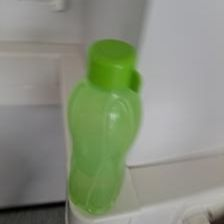bottle: (64, 39, 146, 215)
